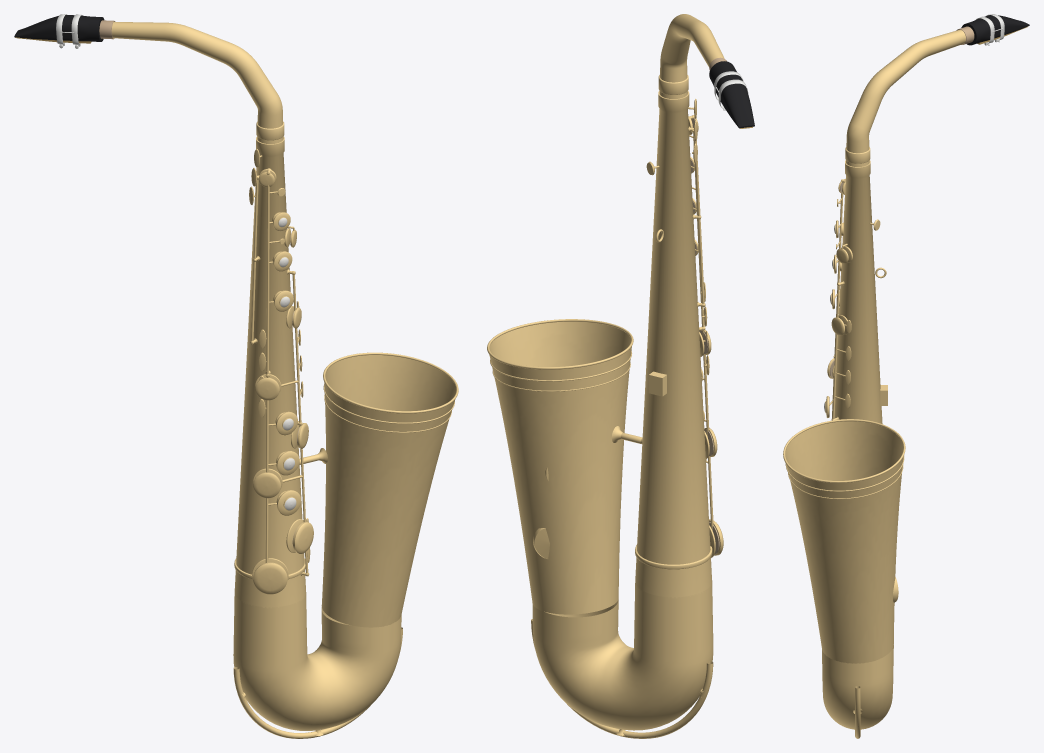
The model's file is altoSax.glb.
The picture shows the model from 3 angles, left to right: view 1: azimuth 30°, elevation 25°; view 2: azimuth 150°, elevation 25°; view 3: azimuth 270°, elevation 25°; orthographic projection. The views are drawn at different scales.
Visible parts, largest first — view 1: Body; view 2: Body; view 3: Body.
Boxes of the visible parts, bbox=[...] form: Body: bbox=[14, 14, 458, 738]; Body: bbox=[487, 14, 754, 738]; Body: bbox=[783, 14, 1029, 738].
Bounding box in the file's own units: 0.37 × 0.747 × 0.2607.
